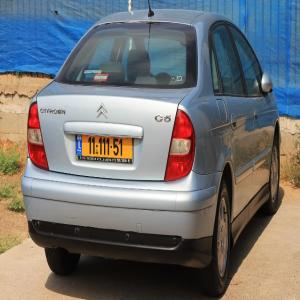Vehicle-registration-plate: (74, 125, 135, 169)
